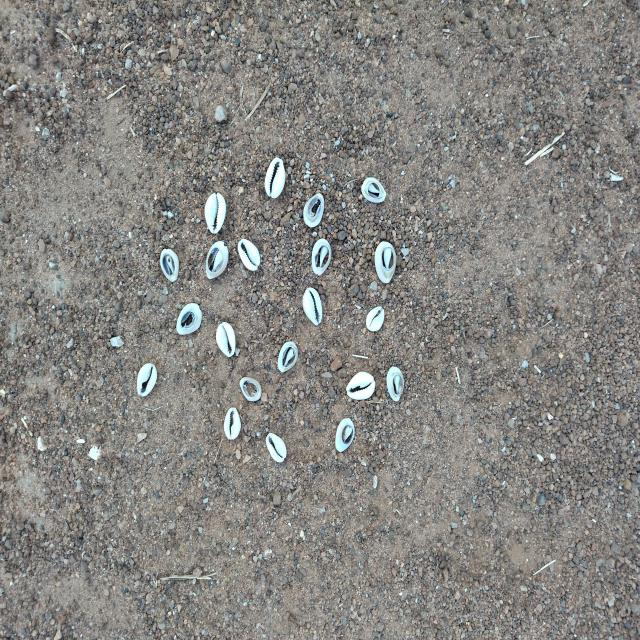facedown: (373, 238, 398, 287), (176, 301, 203, 336), (206, 241, 229, 280), (158, 246, 180, 285), (238, 374, 265, 405), (335, 415, 356, 453), (304, 192, 325, 230), (277, 339, 300, 373), (310, 237, 330, 276), (386, 366, 406, 402), (361, 176, 385, 206)
faceup: (264, 155, 288, 201), (345, 370, 377, 402), (205, 192, 228, 236), (302, 285, 325, 326), (238, 237, 262, 272), (216, 322, 238, 358), (135, 362, 157, 398), (265, 431, 288, 465), (224, 406, 242, 442), (365, 304, 387, 332)
